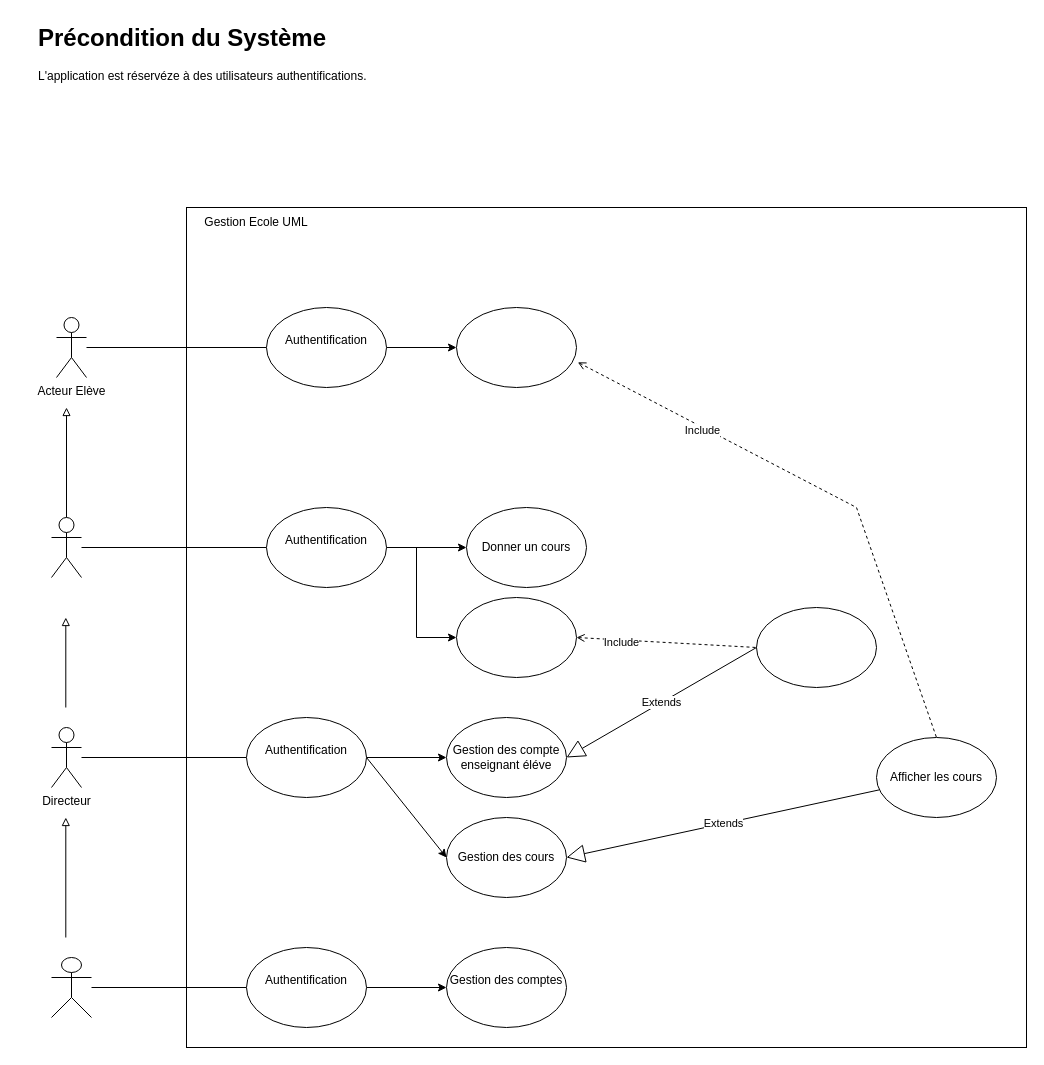
Some shapes in this 1044 by 1065 pixel diagram are drawn without their labels. The shapes that lost their labels are listed below. From the top down, each one's box as (x1, y1, x2, y2) in pixels, then its label:
(456, 306, 576, 388): Visualiser Cours
(50, 516, 82, 578): Acteur Enseignant
(456, 596, 576, 678): Afficher les élèves
(756, 606, 876, 688): Afficher les utilsateurs
(50, 956, 92, 1018): Administrateur
